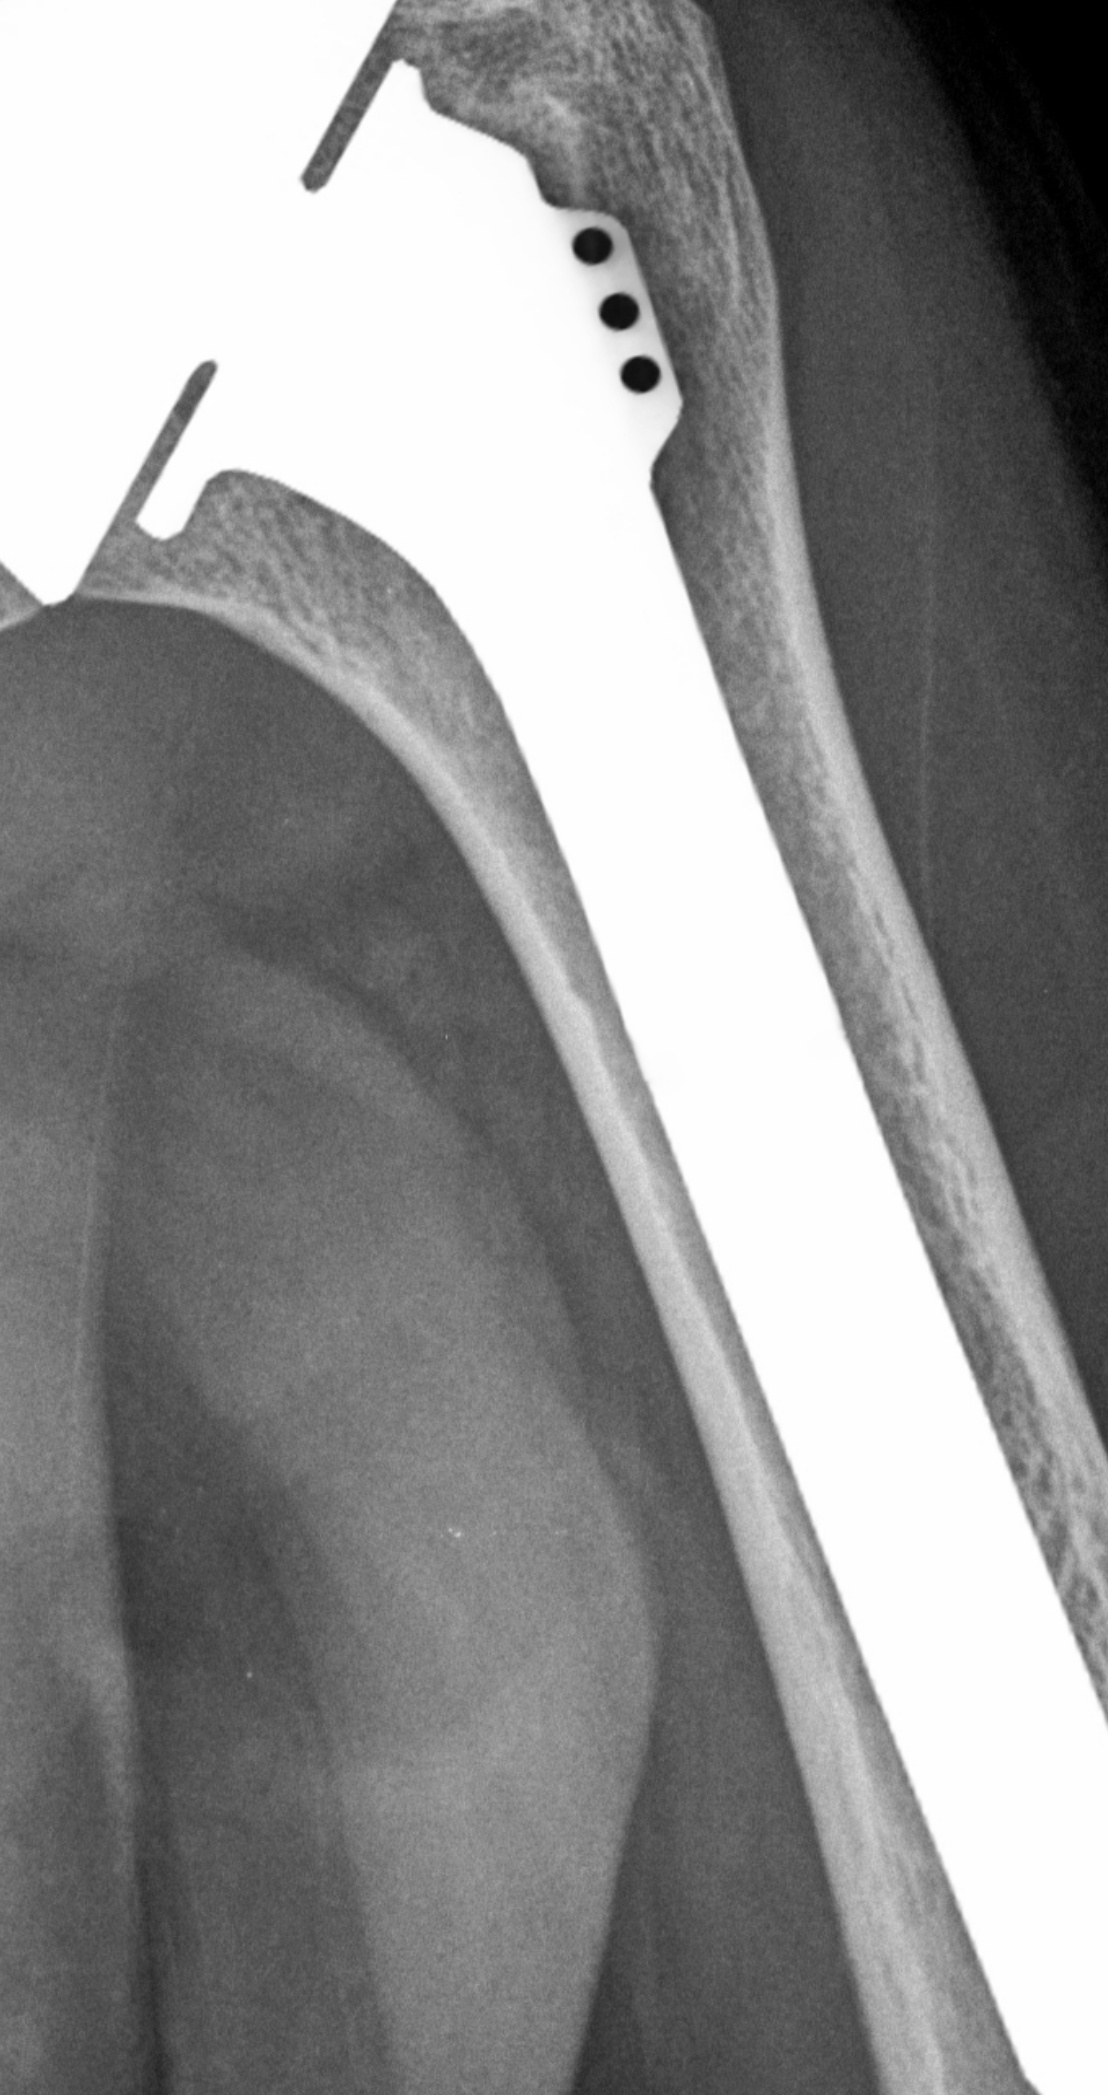Shoulder-Olympia-Wright: (1, 1, 1108, 2095)
